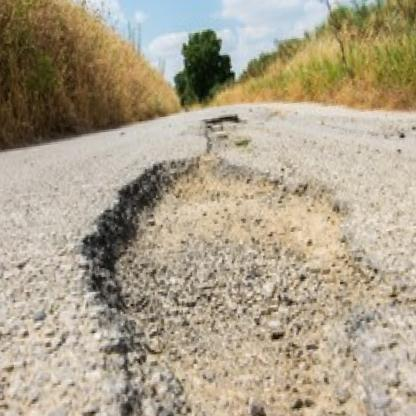pothole: (69, 140, 389, 416), (204, 113, 242, 128)
